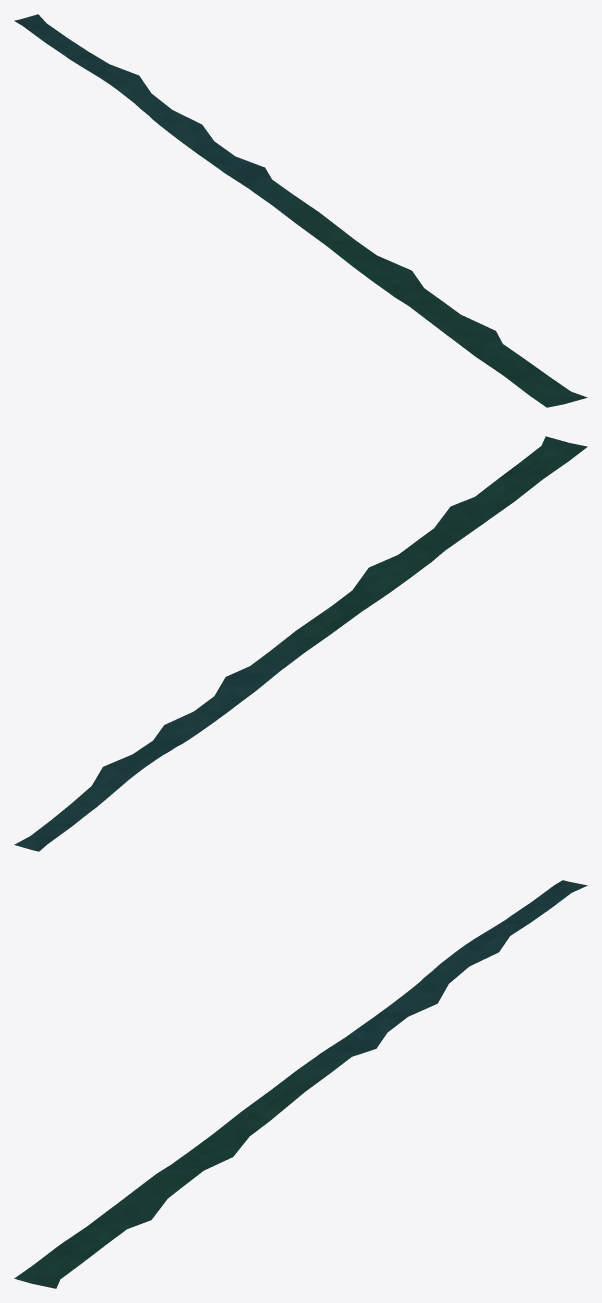
3 views of the same model, one above another, from view 1: azimuth 30°, elevation 25°; view 2: azimuth 150°, elevation 25°; view 3: azimuth 330°, elevation 25° (orthographic). The views are drawn at different scales.
Size of the model in its own units: 4.67 by 0.7123 by 104.
Materials: 1 (1 with a texture image).
